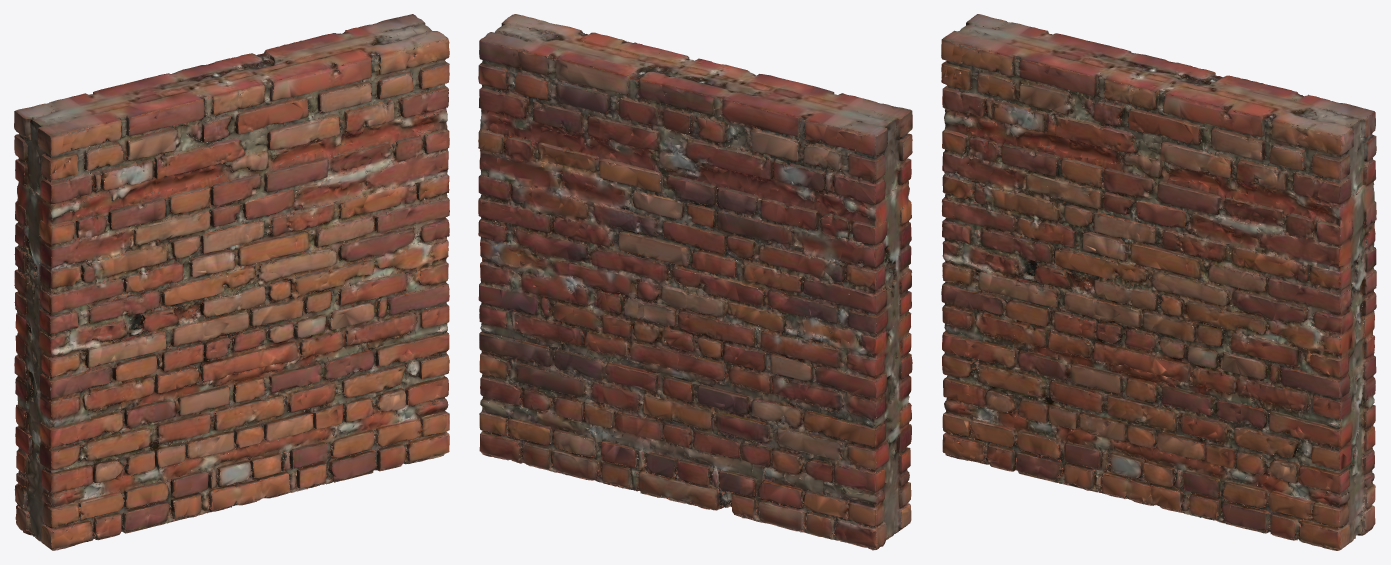
The model's file is wall_opt.glb.
3 renders of one model, left to right at view 1: azimuth 30°, elevation 25°; view 2: azimuth 150°, elevation 25°; view 3: azimuth 330°, elevation 25°, orthographic.
Parts seen in each view (by area): view 1: Mesh_0; view 2: Mesh_0; view 3: Mesh_0.
Boxes of the visible parts, box(x1,y1,x2,y2) form: Mesh_0: box(14, 14, 449, 550); Mesh_0: box(478, 14, 912, 550); Mesh_0: box(941, 14, 1376, 550).
Size of the model in its own units: 2 by 2 by 0.3317.
1 material, 1 textured.
